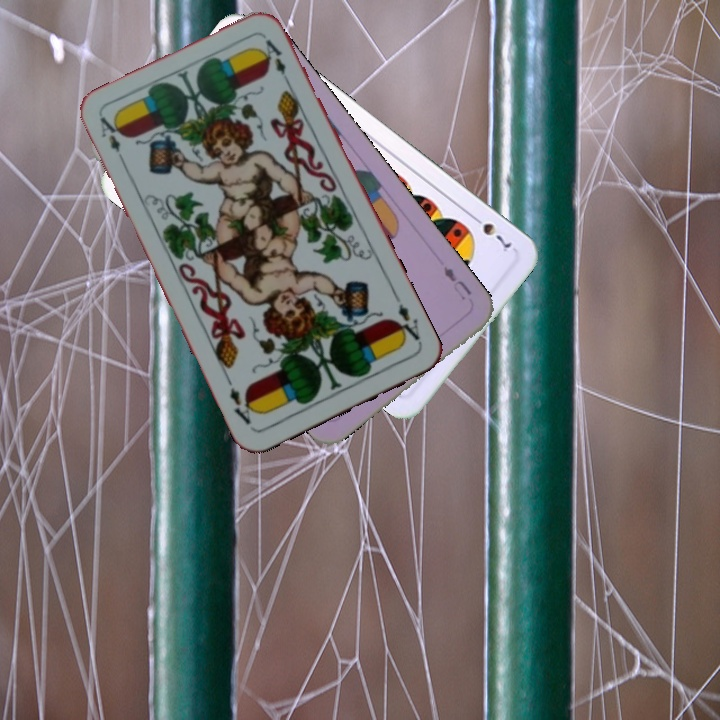EA: (95, 112, 129, 168), (390, 299, 424, 347)
EU: (439, 262, 475, 303)
S7: (467, 210, 514, 255)
